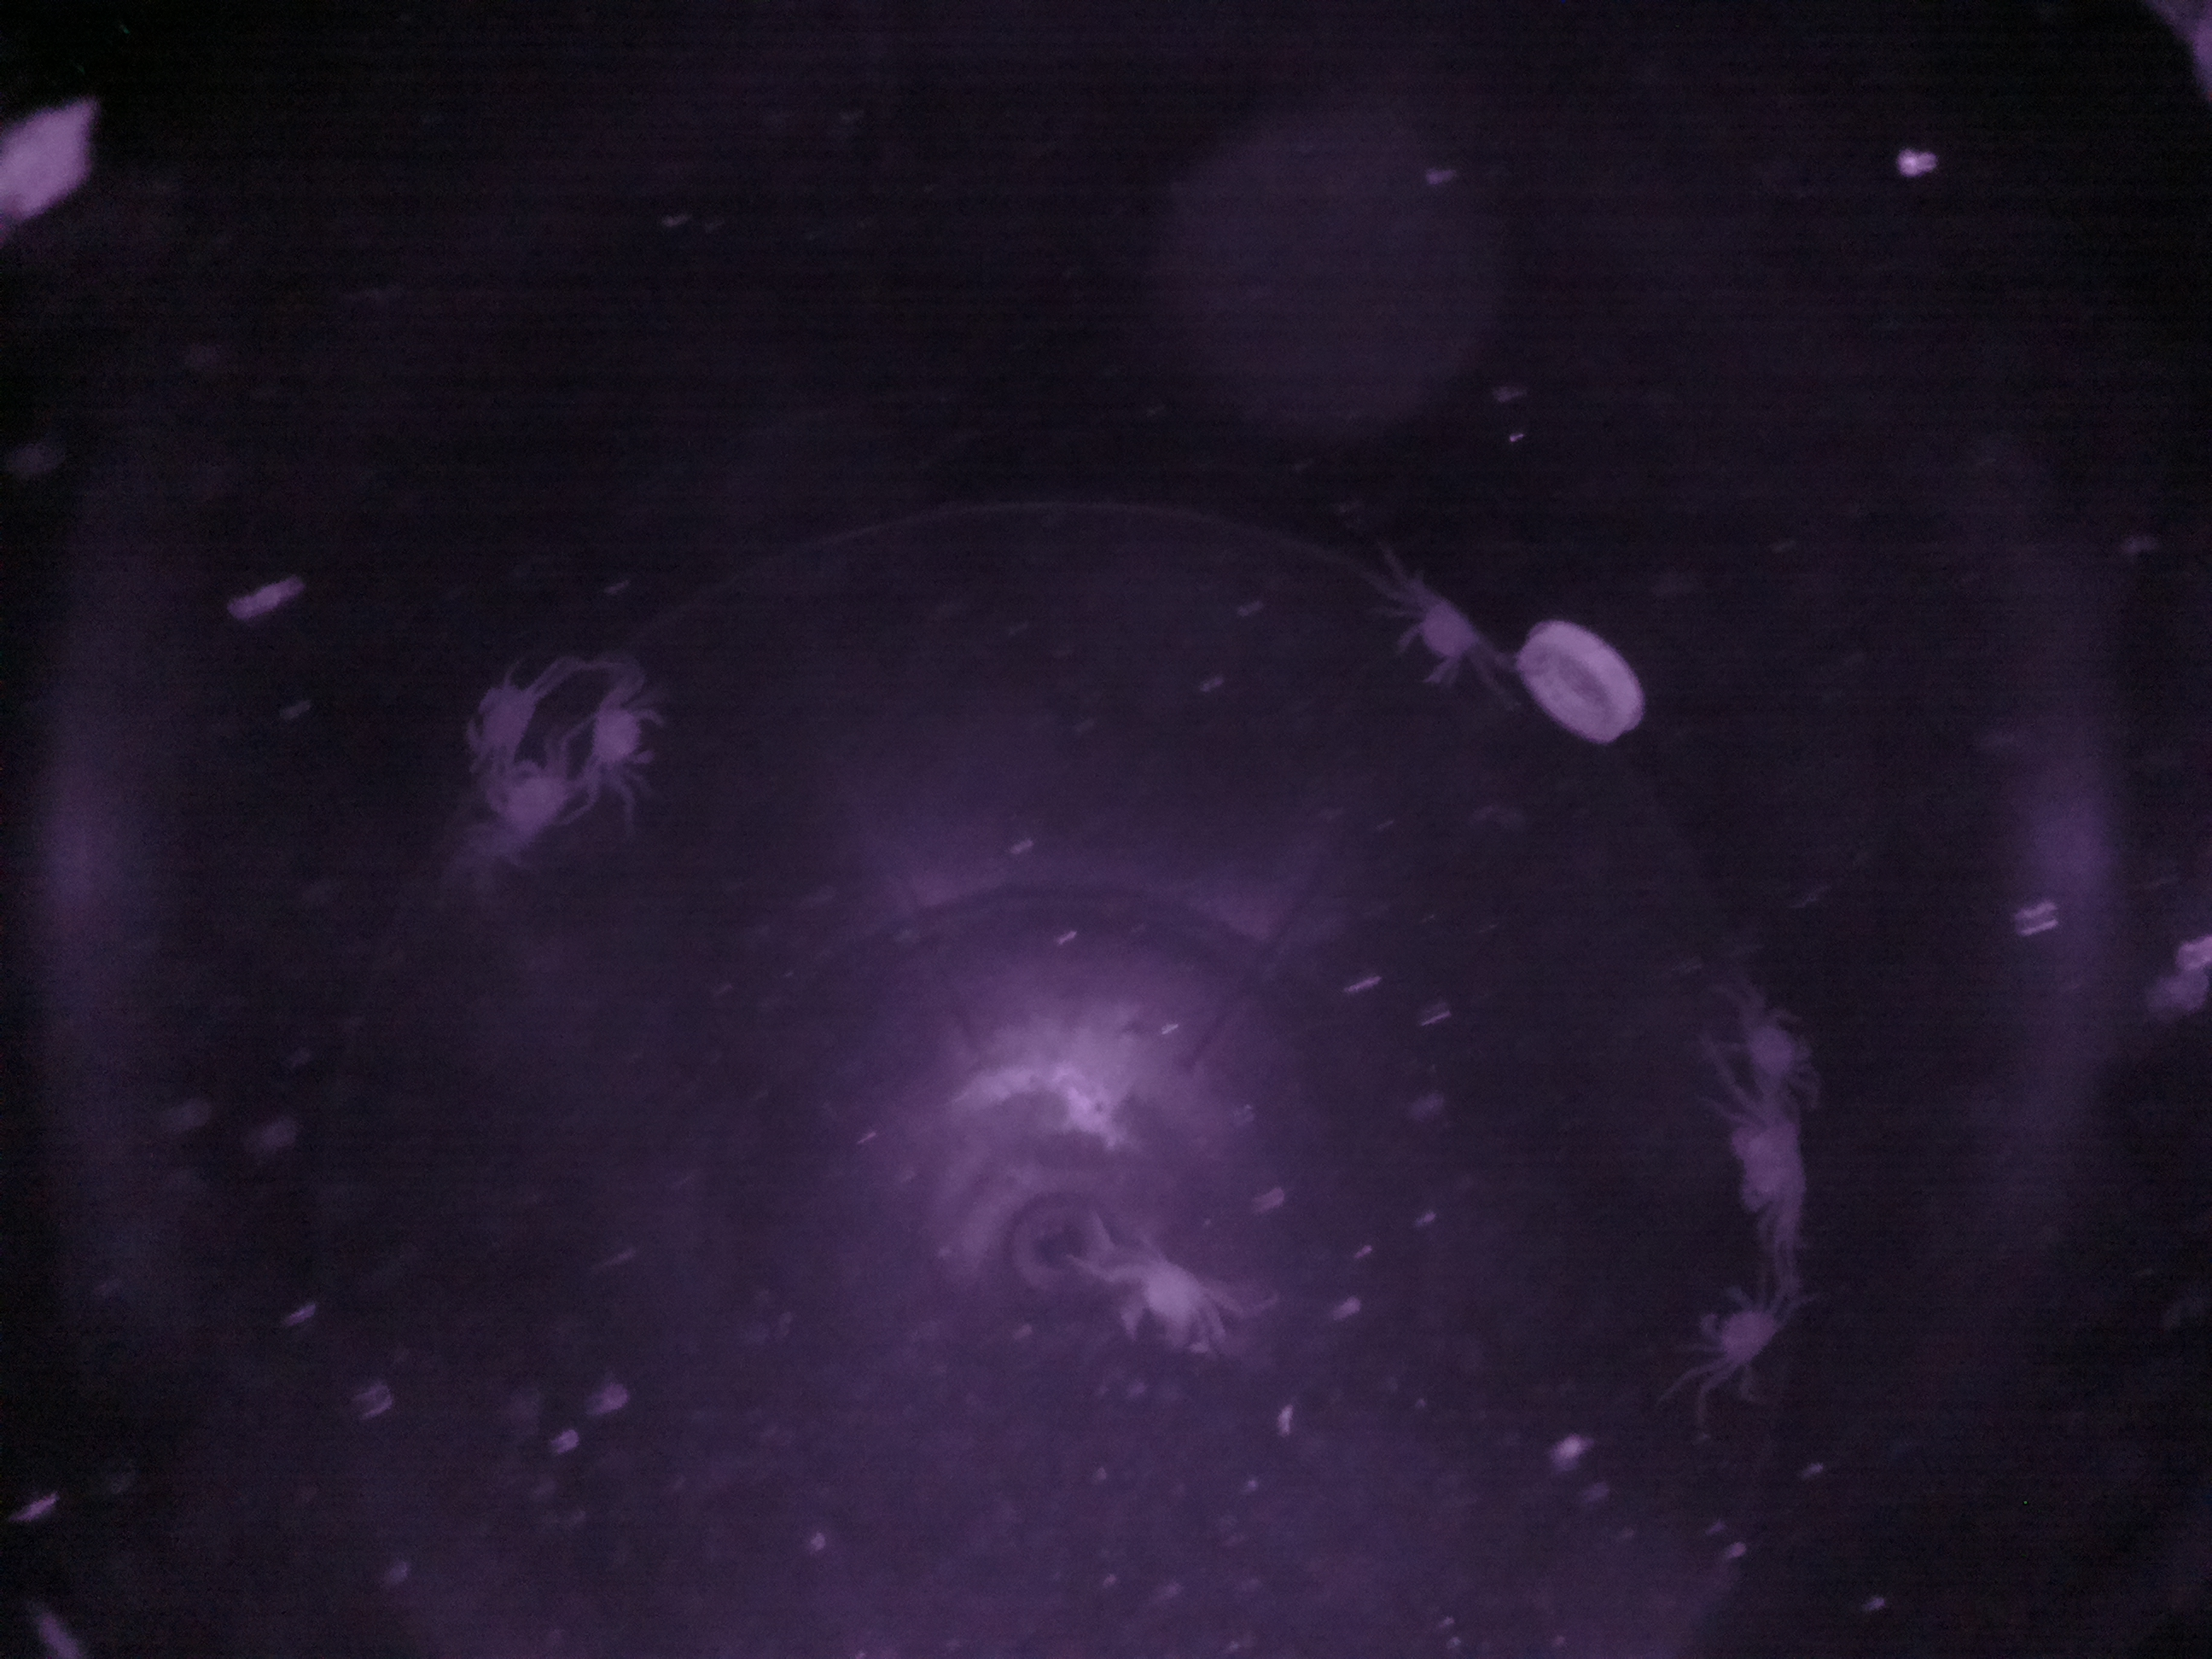Crab: (1371, 575, 1505, 708), (570, 687, 686, 796)
